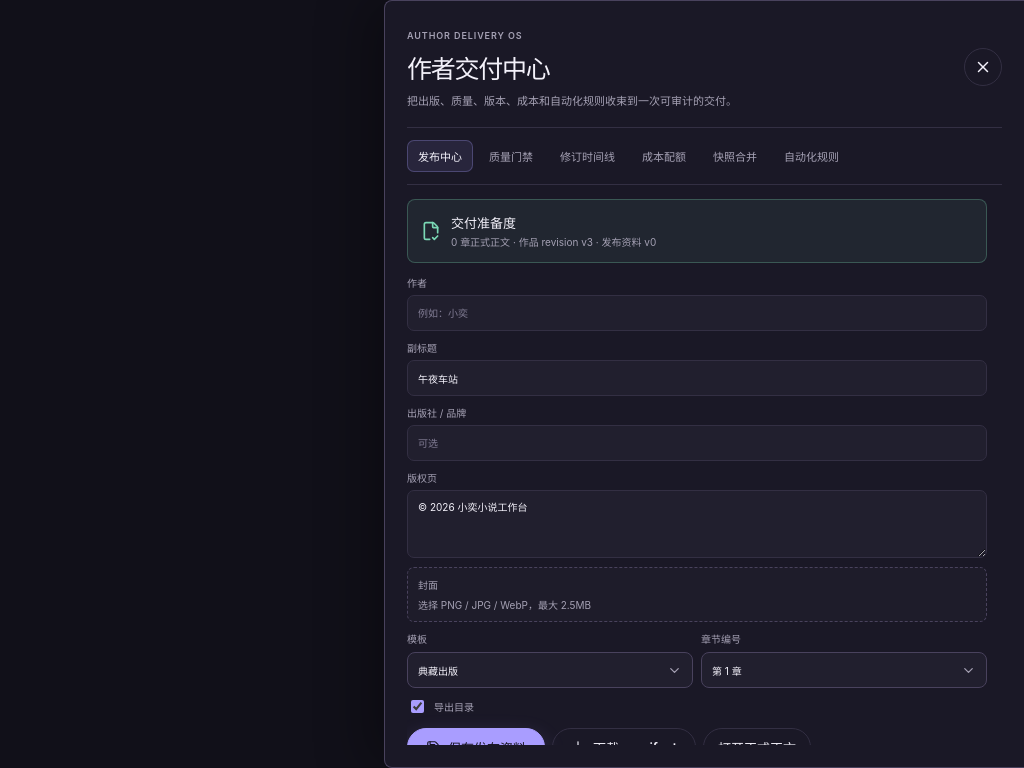
Test case: AuthorDeliveryCenterPanel › shows quality and cost views from existing read-only APIs
The image size is (1024, 768).
Expected: the text "交付准备度" is shown, top-left (451, 215), bottom-right (516, 231)
Click the button "质量门禁" at (511, 156), box top-left (478, 140), bottom-right (544, 172)
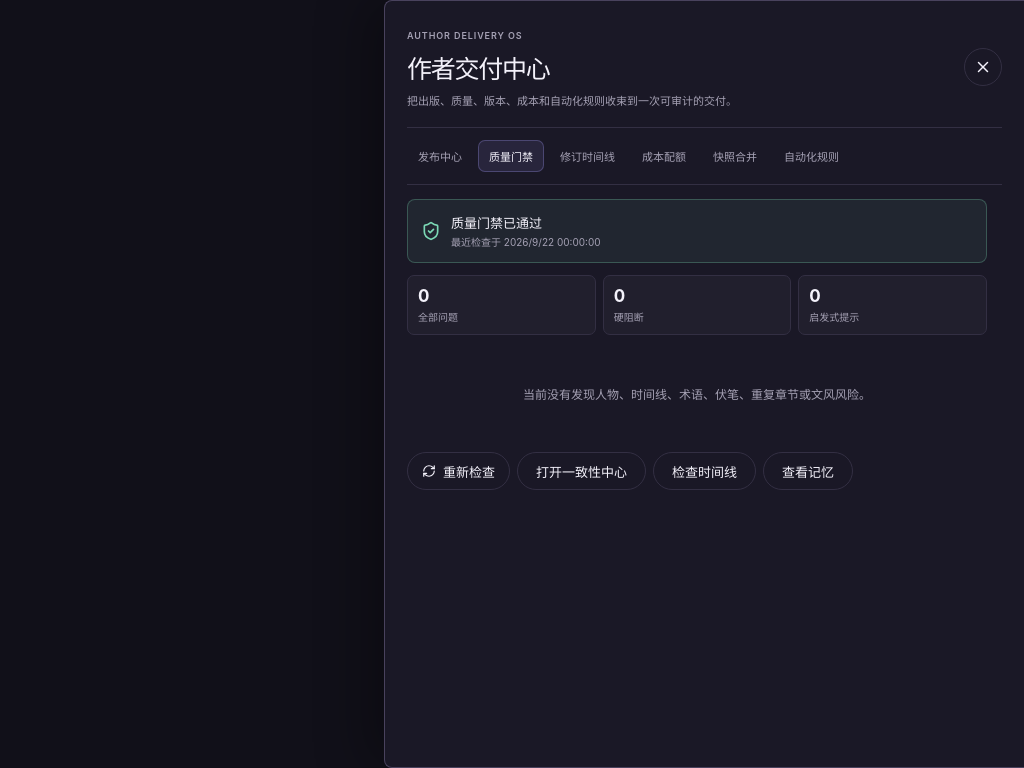
Expected: the text "质量门禁已通过" is shown, top-left (451, 215), bottom-right (542, 231)
Click the button "成本配额" at (664, 156), box top-left (631, 140), bottom-right (697, 172)
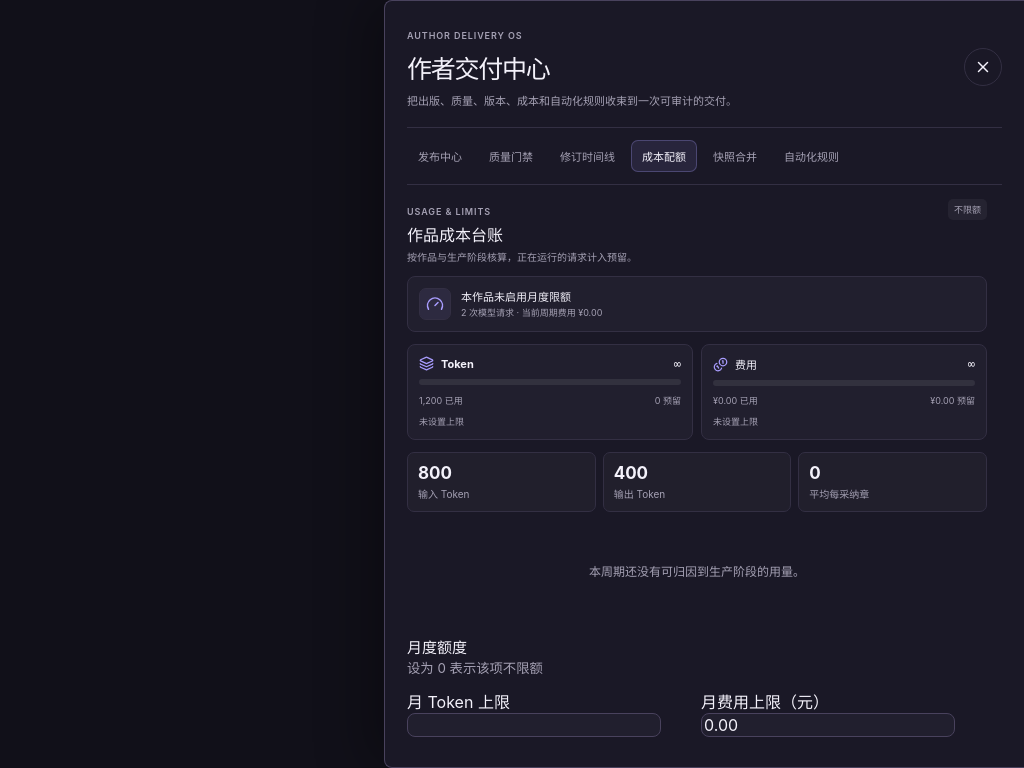
Expected: the text "本作品未启用月度限额" is shown, top-left (461, 290), bottom-right (571, 304)
